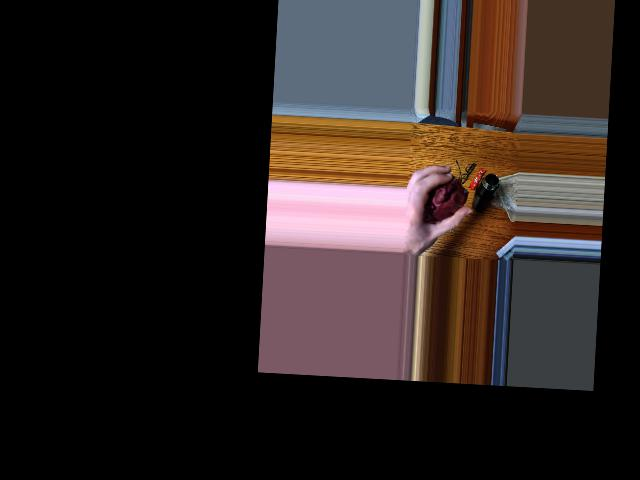onion: (423, 174, 463, 224)
